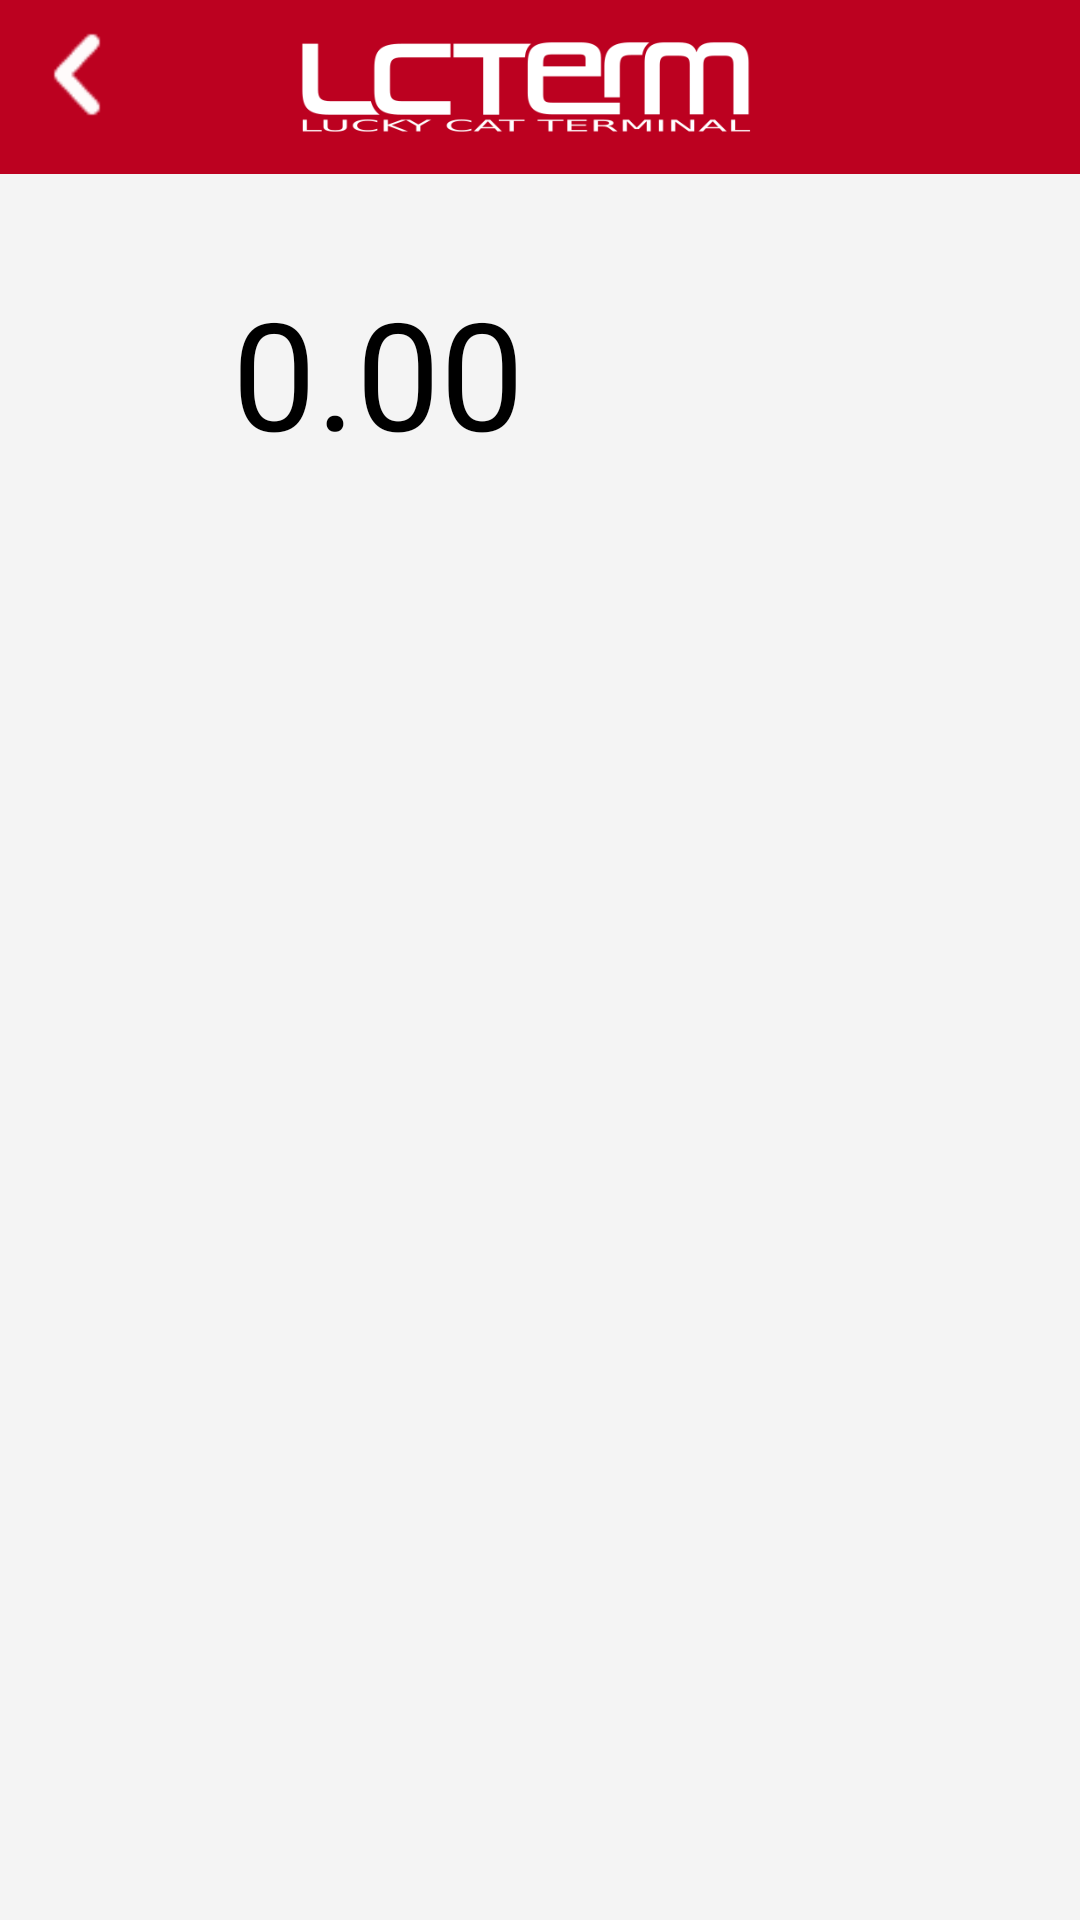

Named icons in this screenshot (1080 × 1920) and their centers, point (x, y):
Back: point (77, 74)
